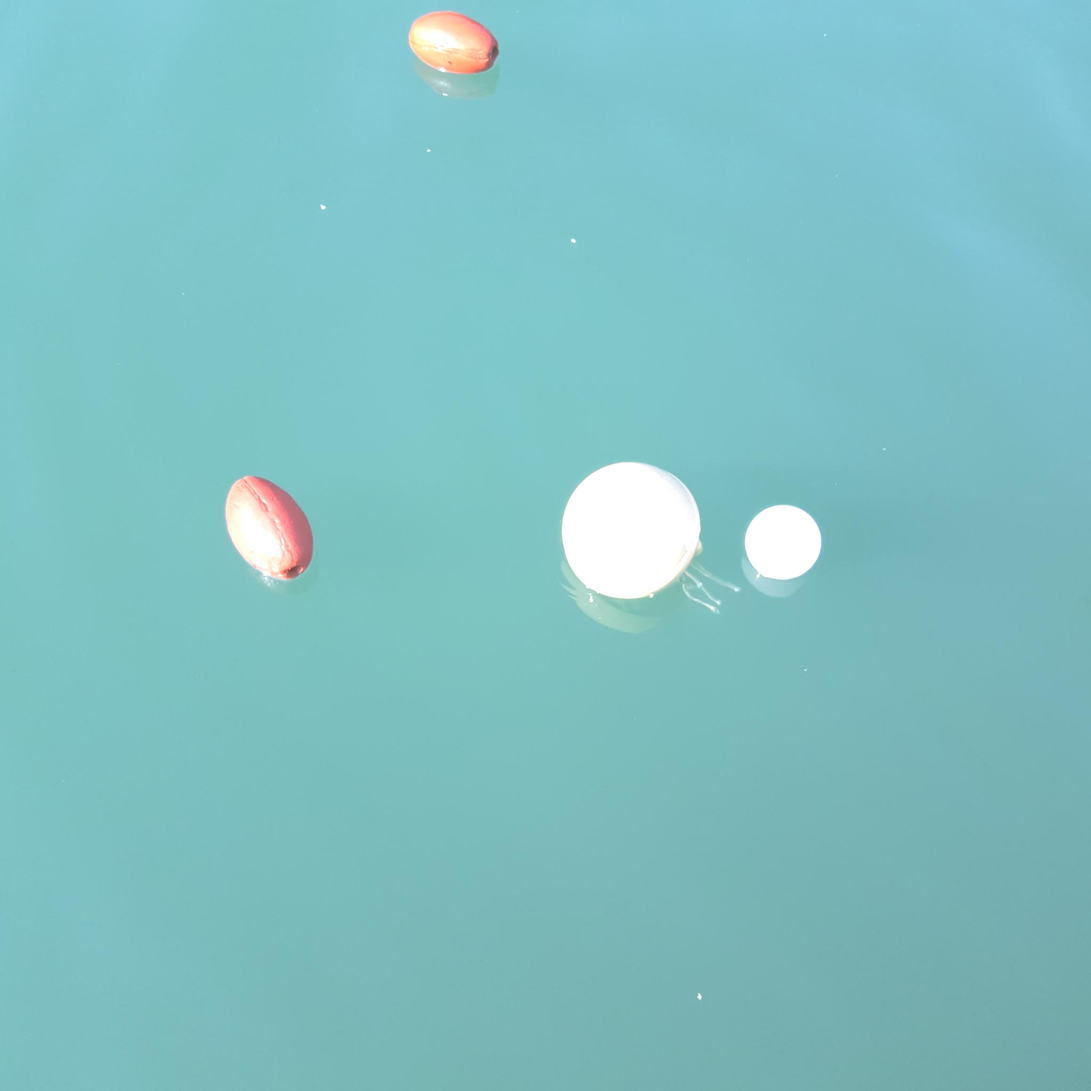sampah_terapung: (563, 462, 703, 599), (226, 477, 314, 580), (745, 506, 822, 581), (409, 12, 500, 75), (678, 559, 742, 614)
